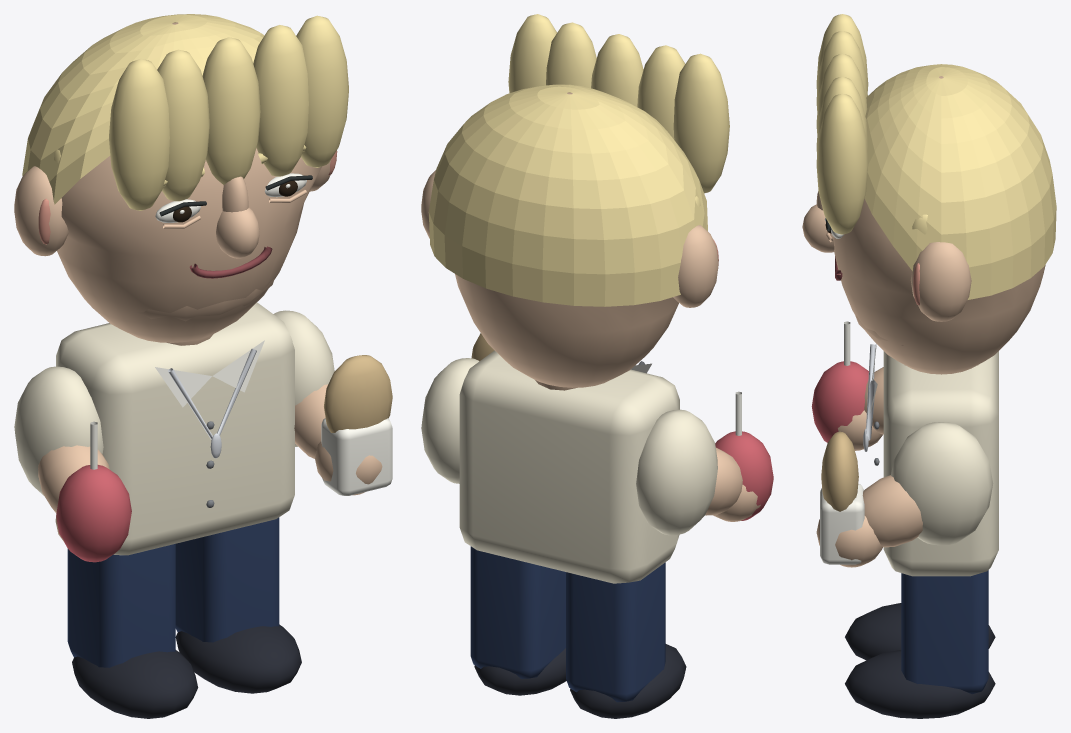
File: longlong-14.glb
3 views of the same model, side by side, from view 1: azimuth 30°, elevation 25°; view 2: azimuth 150°, elevation 25°; view 3: azimuth 270°, elevation 25° (orthographic). The views are drawn at different scales.
Parts seen in each view (by area): view 1: Trousers, Side-swept hair; view 2: Trousers, Side-swept hair; view 3: Trousers, Side-swept hair.
Part boxes in pixels (x1=…): Trousers: x1=14, y1=15, x2=392, y2=718; Side-swept hair: x1=22, y1=14, x2=264, y2=407; Trousers: x1=421, y1=14, x2=773, y2=718; Side-swept hair: x1=428, y1=84, x2=707, y2=373; Trousers: x1=802, y1=14, x2=1045, y2=718; Side-swept hair: x1=864, y1=64, x2=1056, y2=412.
Size of the model in its own units: 1.5 by 3 by 1.09.
Materials: 2 (2 with a texture image).
